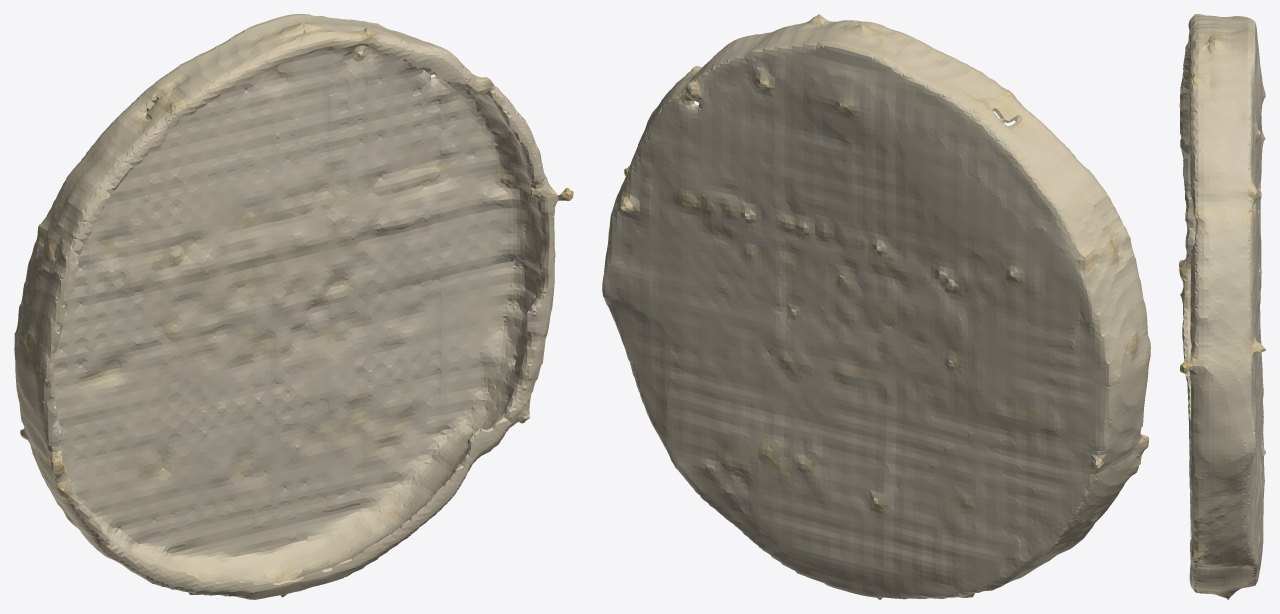
The model's file is chicken.glb.
3 views of the same model, side by side, from view 1: azimuth 30°, elevation 25°; view 2: azimuth 150°, elevation 25°; view 3: azimuth 270°, elevation 25° (orthographic). The views are drawn at different scales.
Parts seen in each view (by area): view 1: geometry_0; view 2: geometry_0; view 3: geometry_0.
Boxes of the visible parts, x1,y1,x2,y2 form: geometry_0: [14, 14, 573, 599]; geometry_0: [602, 14, 1150, 599]; geometry_0: [1179, 14, 1265, 599].
Size of the model in its own units: 1.79 by 1.84 by 0.2646.
